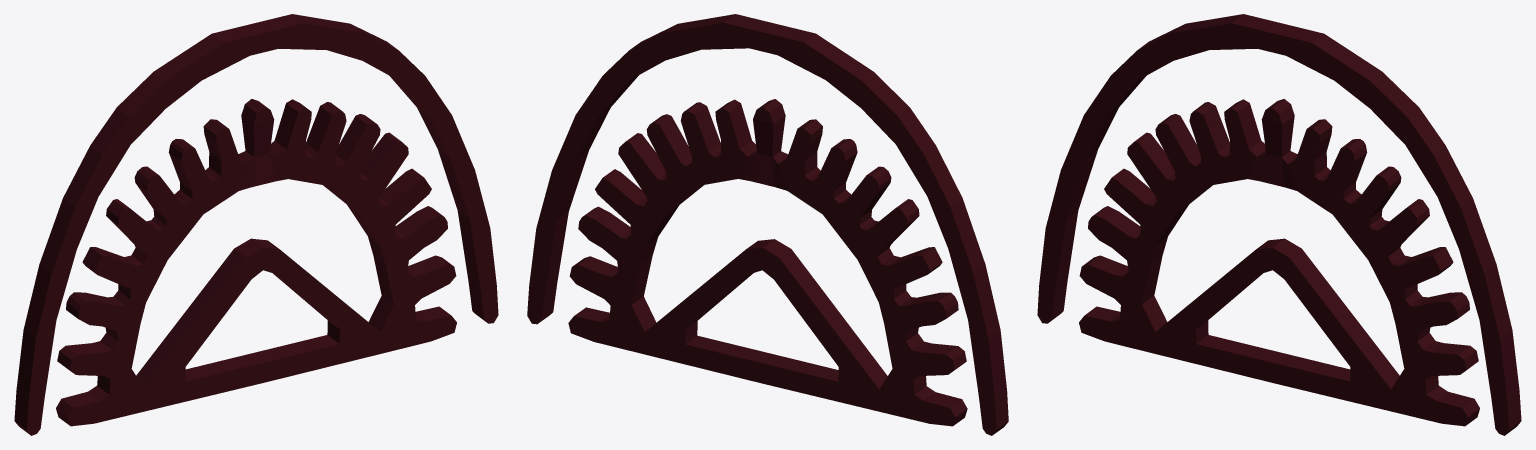
The model's file is Rocio G blen23132131der(1).glb.
3 renders of one model, left to right at view 1: azimuth 30°, elevation 25°; view 2: azimuth 150°, elevation 25°; view 3: azimuth 330°, elevation 25°, orthographic.
Parts seen in each view (by area): view 1: Plane003, Plane005; view 2: Plane003, Plane005; view 3: Plane003, Plane005.
Boxes of the visible parts, <box> form: Plane003: <box>56,99,456,426</box>; Plane005: <box>14,14,498,435</box>; Plane003: <box>568,99,967,426</box>; Plane005: <box>527,14,1008,435</box>; Plane003: <box>1079,99,1479,426</box>; Plane005: <box>1037,14,1521,435</box>.
Size of the model in its own units: 6.65 by 4.73 by 0.3434.
